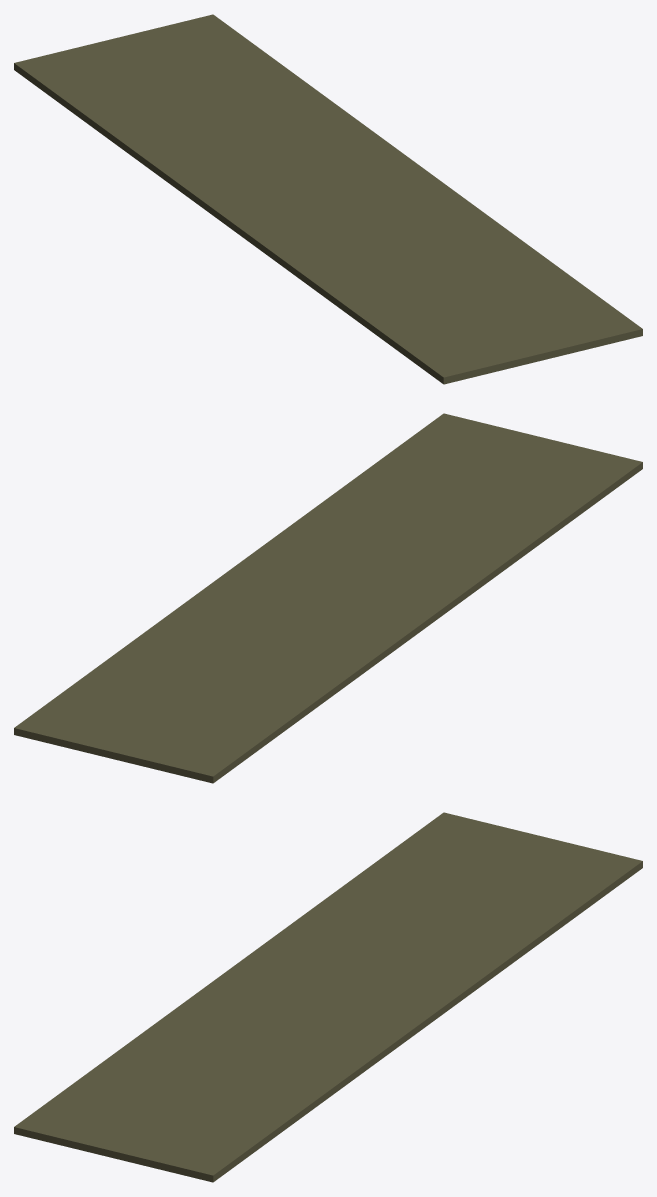
File: Road_03.fbx
3 views of the same model, one above another, from view 1: azimuth 30°, elevation 25°; view 2: azimuth 150°, elevation 25°; view 3: azimuth 330°, elevation 25° (orthographic).
Visible parts, largest first — view 1: Road_03; view 2: Road_03; view 3: Road_03.
Boxes of the visible parts, left/top/right/bottom form: Road_03: left=14, top=14, right=642, bottom=384; Road_03: left=14, top=413, right=642, bottom=783; Road_03: left=14, top=812, right=642, bottom=1182.
Size of the model in its own units: 164 by 5.51 by 613.
